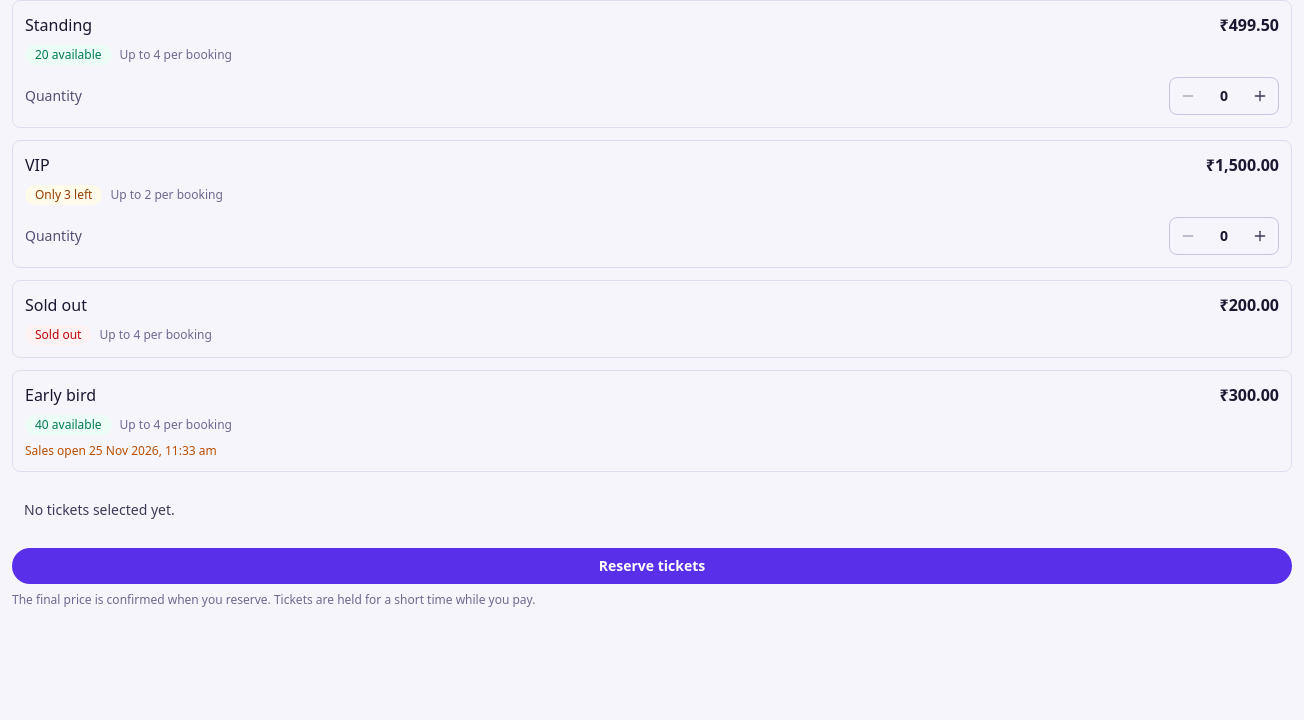
Scenario: BookingPanel › reserves the chosen tickets with an idempotency key and opens the booking page
This screenshot has width=1304, height=720.
Step 1. Click the button named "Increase Standing quantity" → (1260, 96), box [1242, 78, 1278, 114]
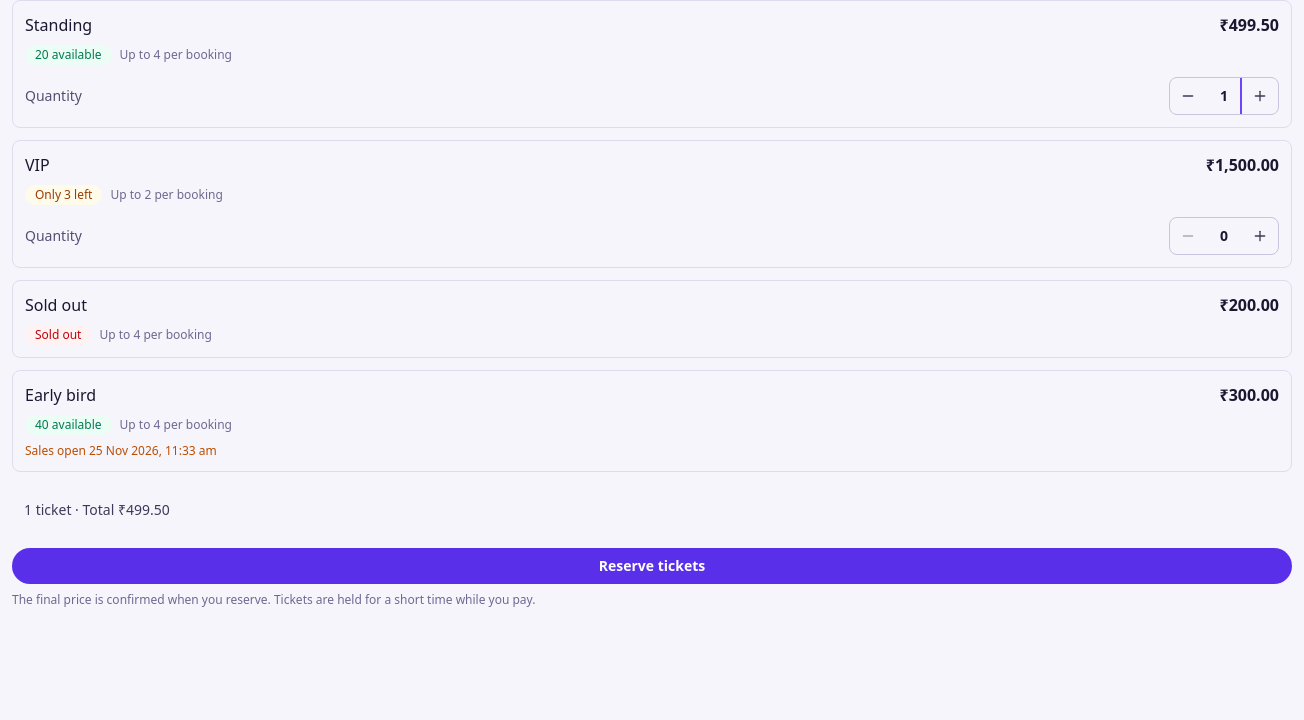
Step 2. Click the button named "Increase Standing quantity" → (1260, 96), box [1242, 78, 1278, 114]
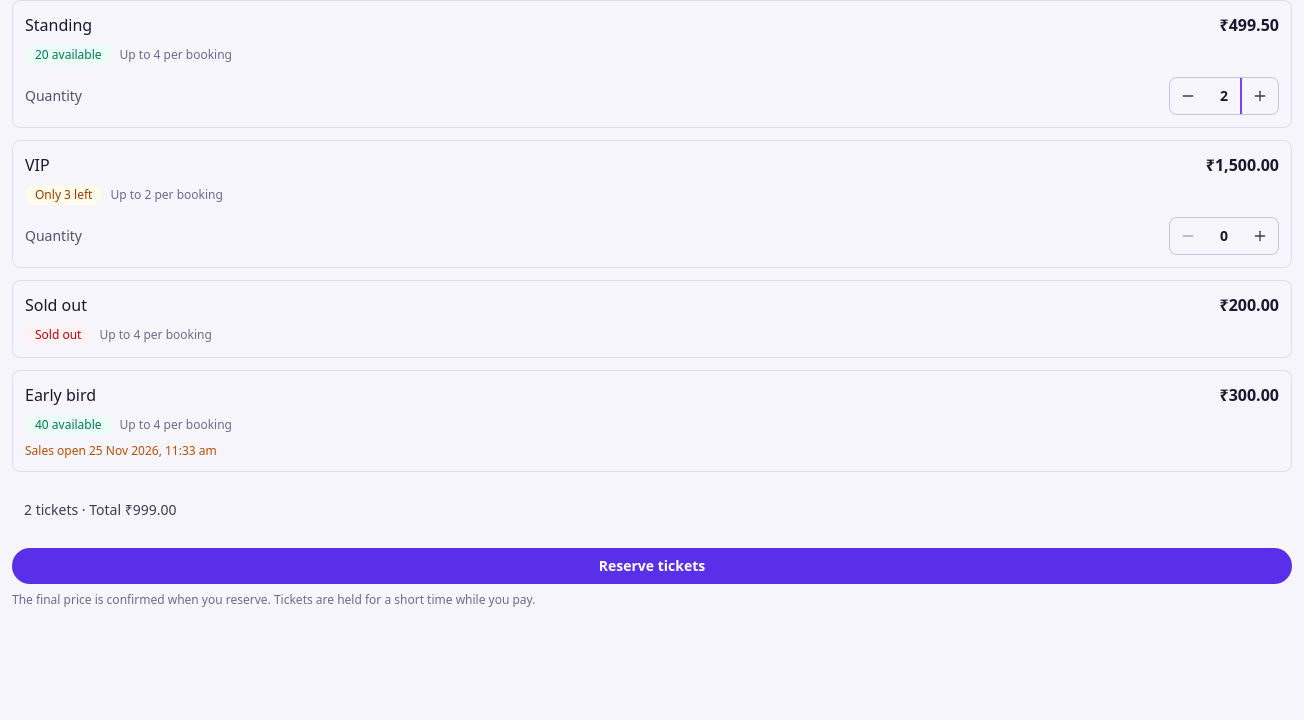
Now the text "2 tickets · Total ₹999.00" is shown, box [12, 488, 1292, 532]
Step 3. Click the button "Reserve tickets" → (652, 566), box [12, 548, 1292, 584]
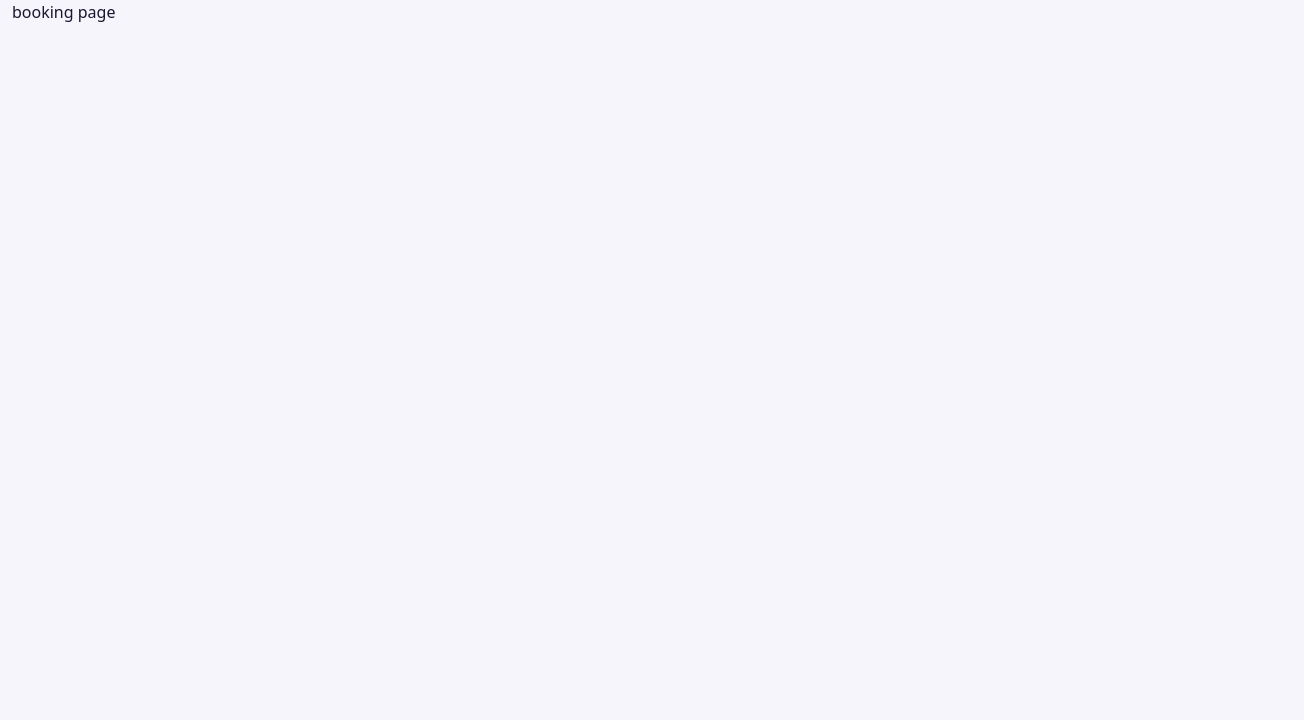
Now the text "booking page" is shown, box [12, 1, 116, 23]
